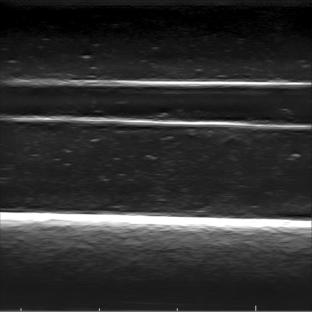vessel: (4, 78, 309, 128)
